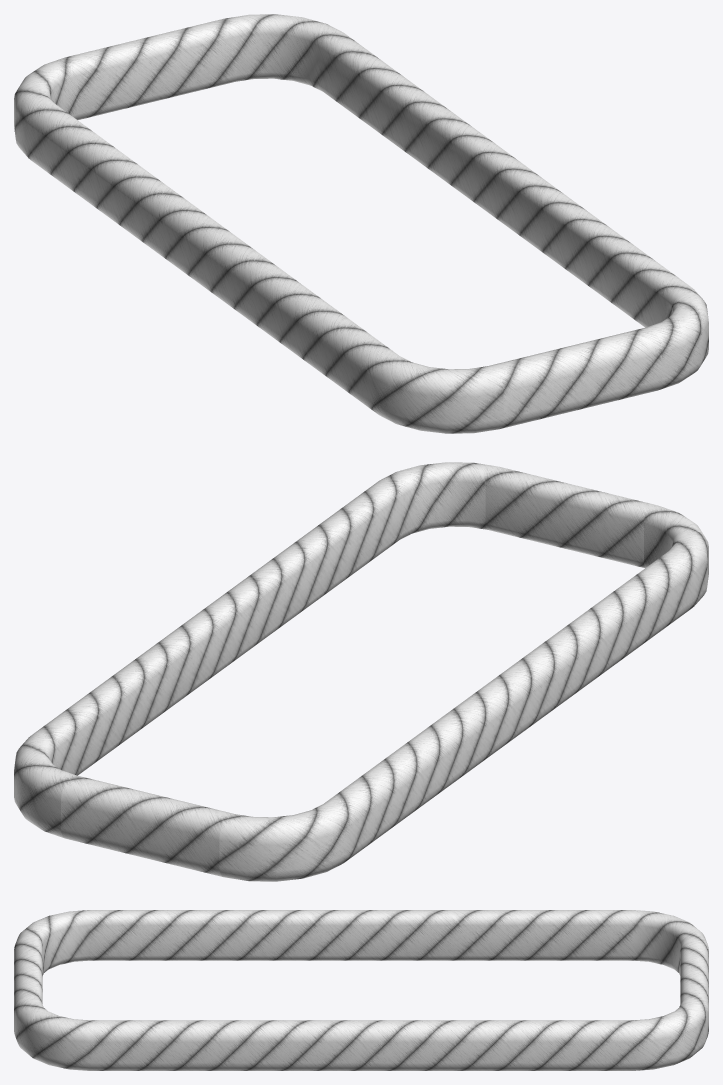
The model's file is taperope-v3.fbx.
3 renders of one model, top to bottom at view 1: azimuth 30°, elevation 25°; view 2: azimuth 150°, elevation 25°; view 3: azimuth 270°, elevation 25°, orthographic. The views are drawn at different scales.
Parts seen in each view (by area): view 1: RopeL, RopeR, RopeMid; view 2: RopeL, RopeR, RopeMid; view 3: RopeR, RopeL, RopeMid.
Part boxes in pixels (<box>): RopeL: <box>14,57,503,433</box>; RopeR: <box>226,14,708,389</box>; RopeMid: <box>67,18,661,428</box>; RopeL: <box>219,505,708,881</box>; RopeR: <box>14,462,496,837</box>; RopeMid: <box>61,466,655,876</box>; RopeR: <box>14,997,708,1070</box>; RopeL: <box>15,910,707,975</box>; RopeMid: <box>14,937,708,1009</box>.
Size of the model in its own units: 205 by 35.65 by 484.
